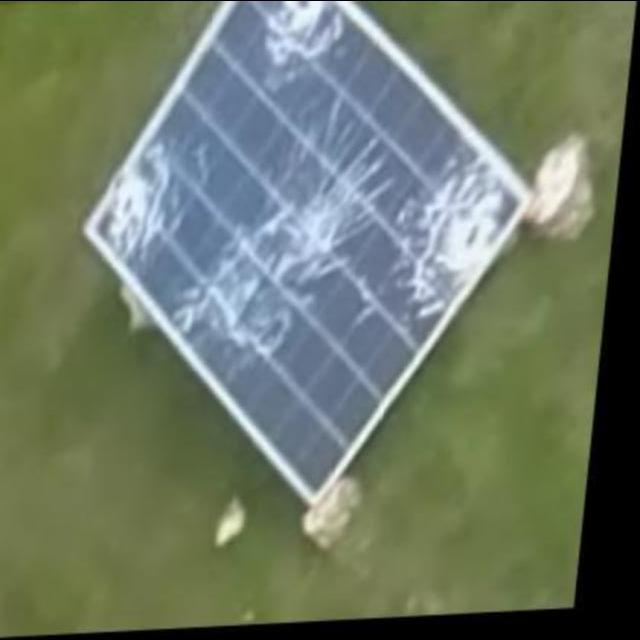cracked: (84, 3, 529, 503)
